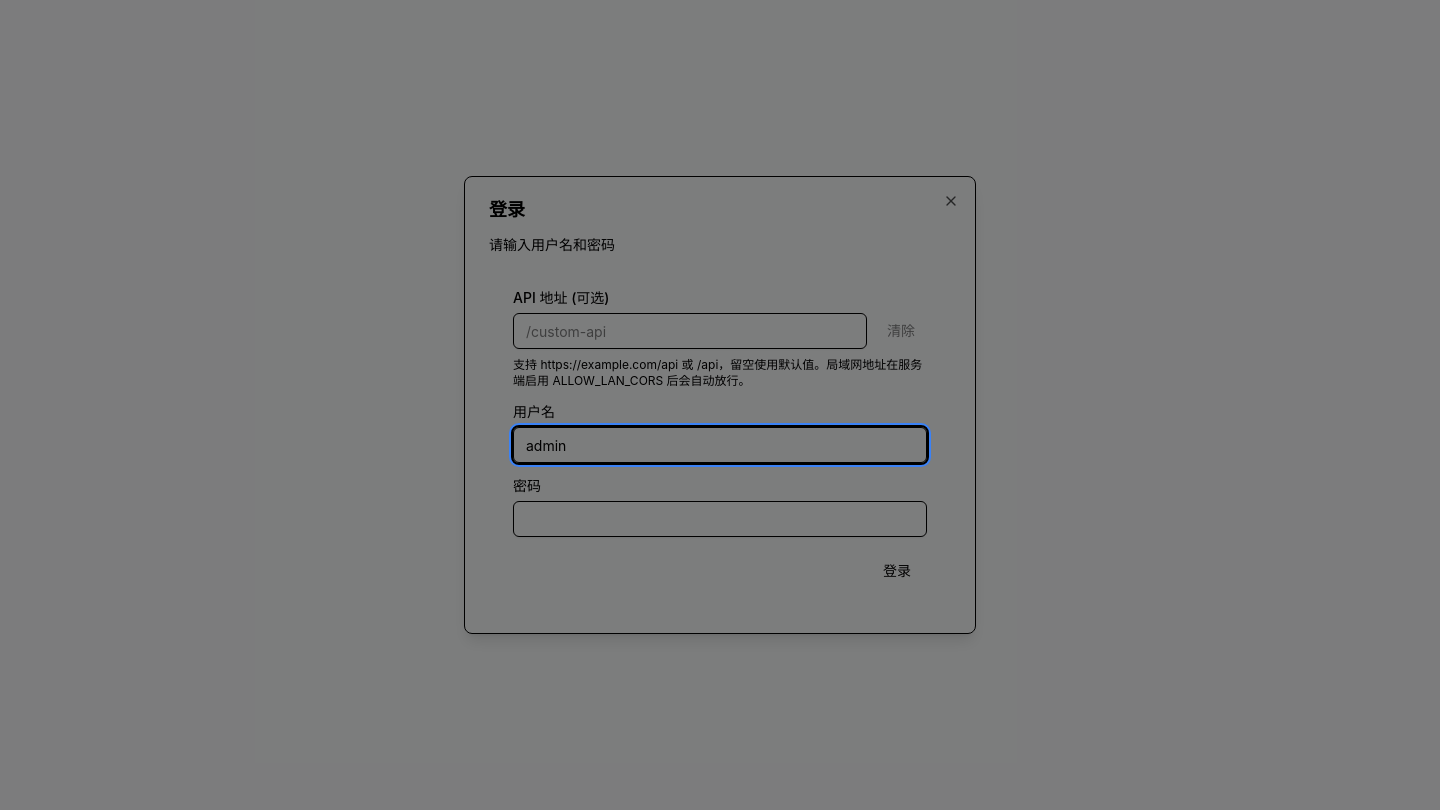
WebLoginDialog › shows validation error when API base is invalid
Type "invalid" into the field labelled "API 地址 (可选)". click: (690, 331)
box: [513, 313, 867, 349]
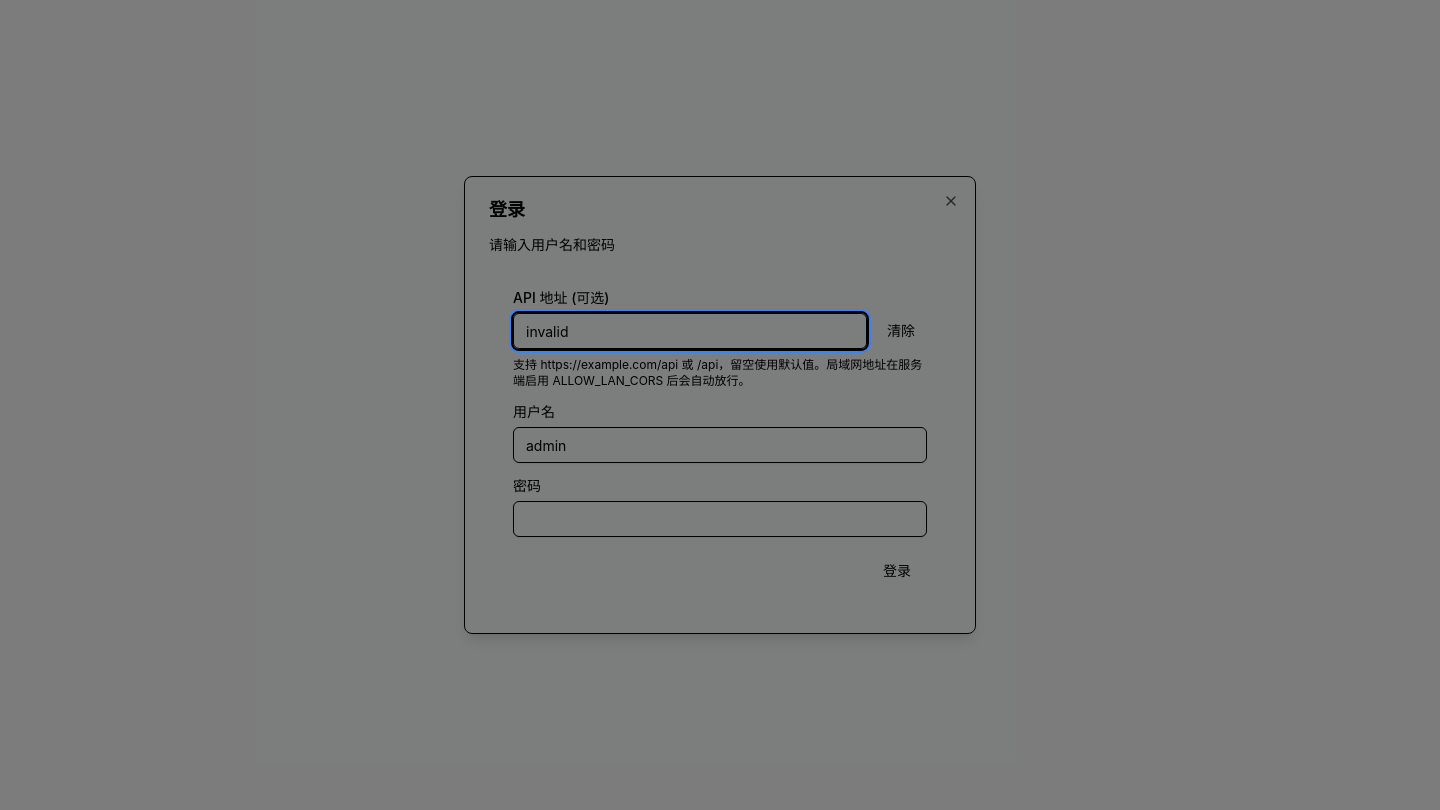
Type "secret" into the password field labelled "密码". click: (720, 519)
box: [513, 501, 927, 537]
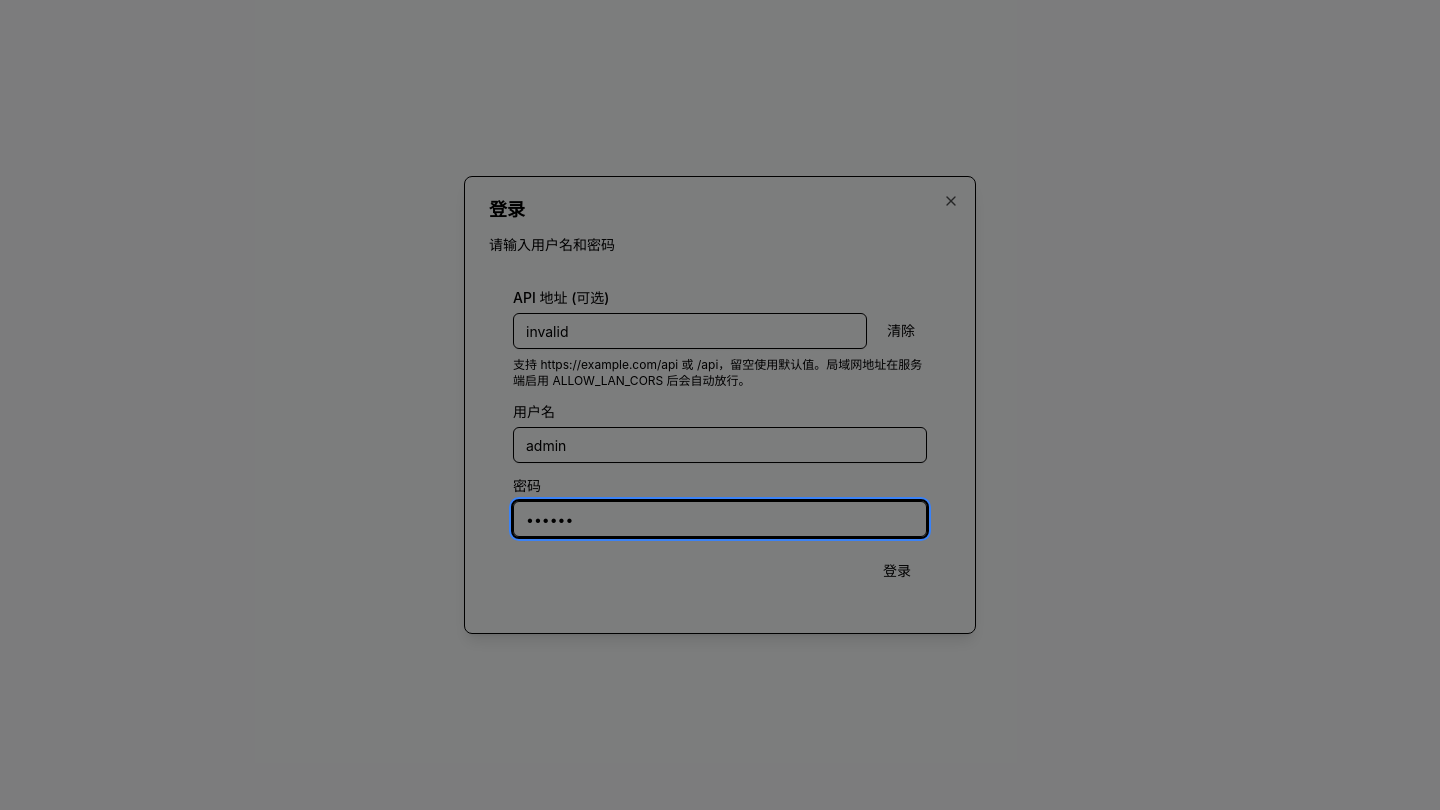
Click the button "登录". click: (897, 571)
box: [867, 553, 927, 589]
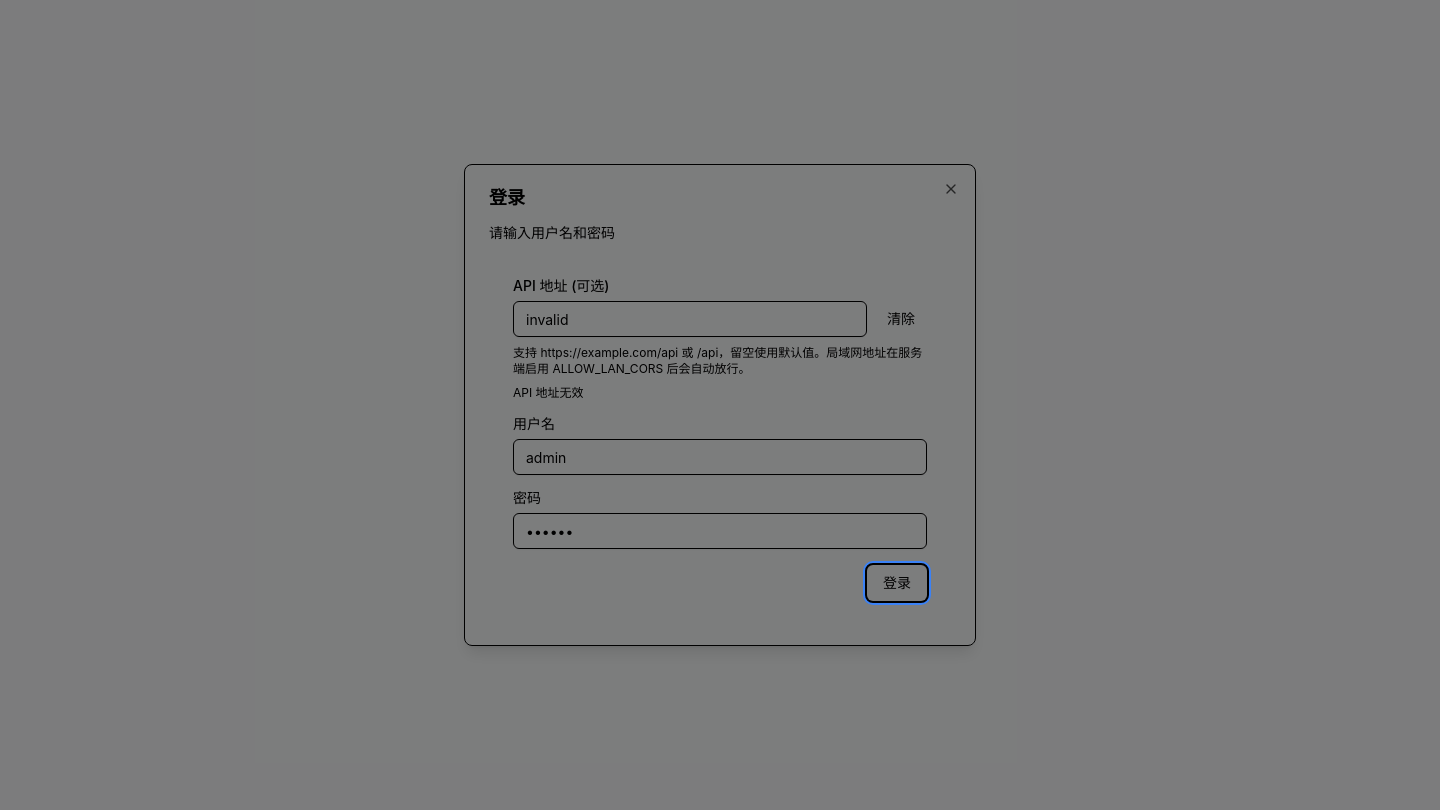
Expected: the text "API 地址无效" is shown, [513, 385, 584, 400]
